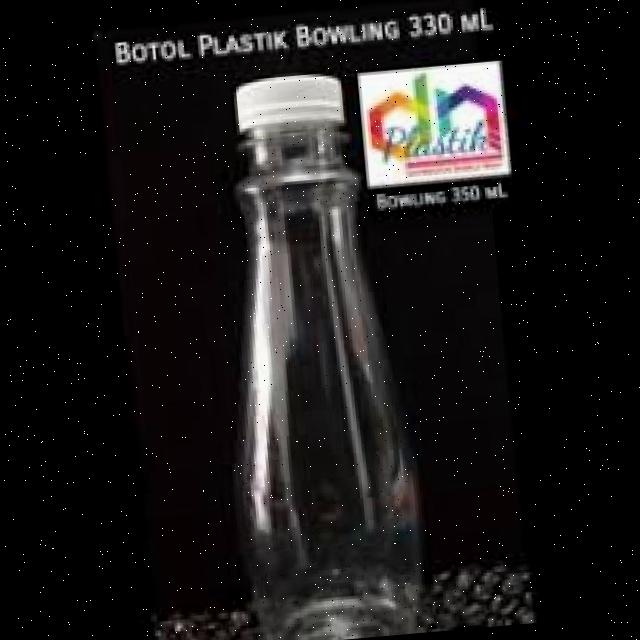bottle: (167, 65, 447, 640)
cap: (223, 66, 353, 150)
